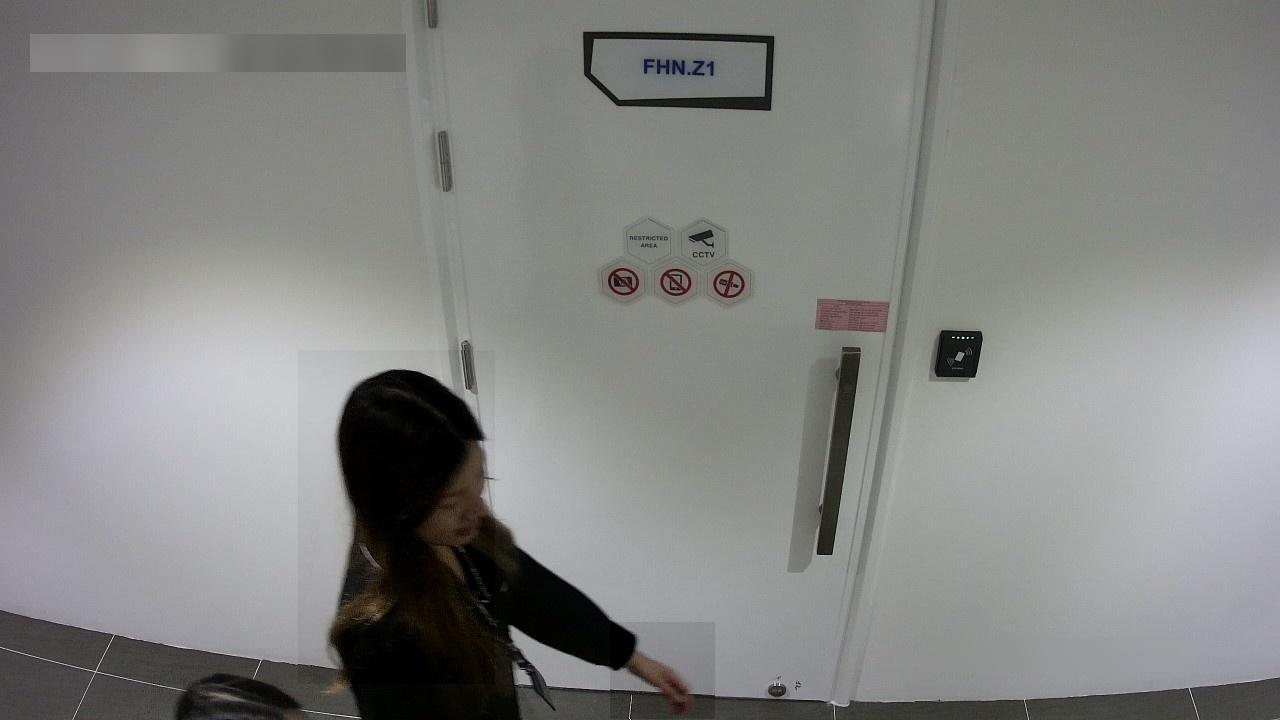no_apron: (610, 623, 716, 720)
no_gloves: (298, 351, 496, 685)
no_hairnet: (414, 433, 498, 548)
